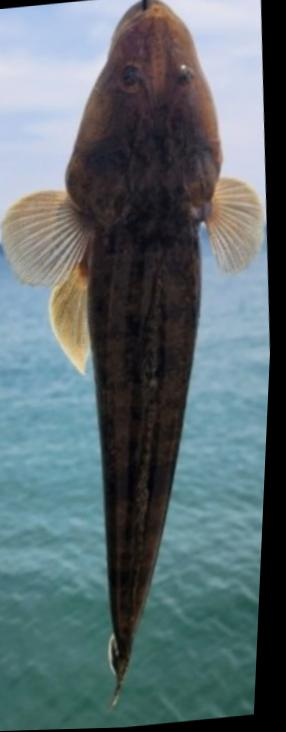fish: (3, 0, 266, 710)
